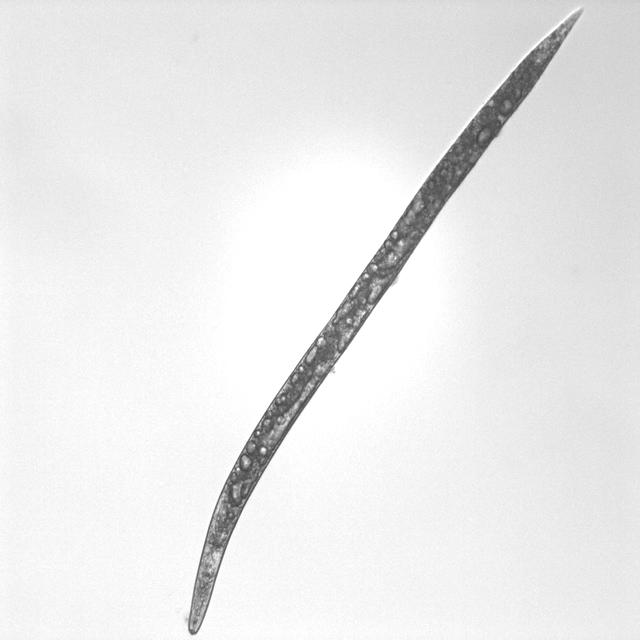Radopholus: (176, 0, 596, 640)
